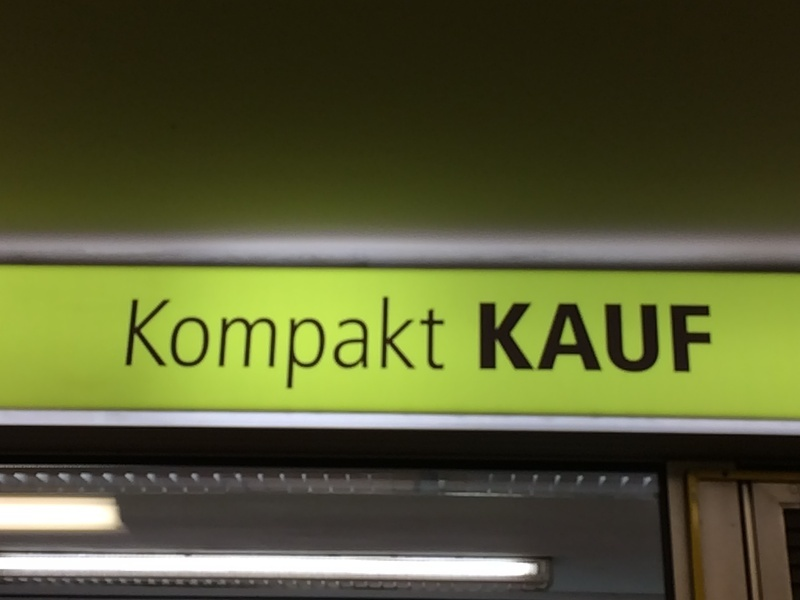text: (145, 296, 160, 412), (161, 296, 176, 412), (177, 296, 192, 412), (193, 296, 208, 412), (209, 296, 224, 412), (225, 296, 240, 412), (241, 296, 256, 412), (257, 296, 272, 412), (273, 296, 288, 412), (289, 296, 304, 412), (305, 296, 320, 412), (321, 296, 336, 412), (337, 296, 352, 412), (353, 296, 368, 412), (369, 296, 384, 412), (385, 296, 400, 412), (401, 296, 416, 412), (417, 296, 432, 412), (132, 296, 144, 412), (433, 296, 445, 412), (481, 302, 496, 374), (497, 302, 512, 374), (513, 302, 528, 374), (529, 302, 544, 374), (545, 302, 560, 374), (561, 302, 576, 374), (577, 302, 592, 374), (593, 302, 608, 374), (609, 302, 624, 374), (625, 302, 640, 374), (641, 302, 656, 374), (657, 302, 672, 374), (673, 302, 688, 374), (689, 302, 704, 374), (705, 302, 713, 374), (479, 302, 480, 374)
